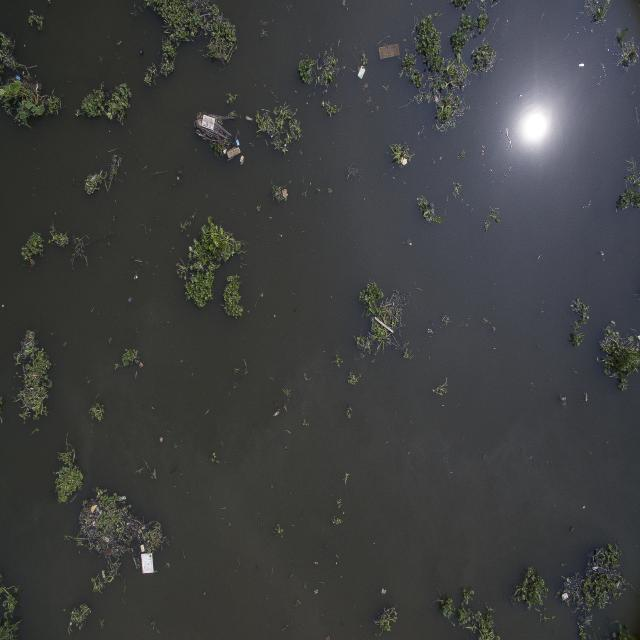plastic: (191, 105, 237, 158), (133, 543, 164, 583), (356, 61, 369, 82)
